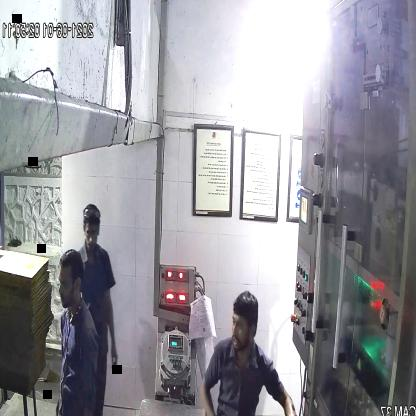no_goggles: (53, 272, 88, 296), (227, 315, 261, 337), (81, 225, 102, 239)
